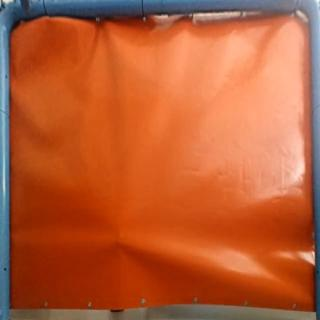Hit-hRxx: (109, 239, 128, 253)
